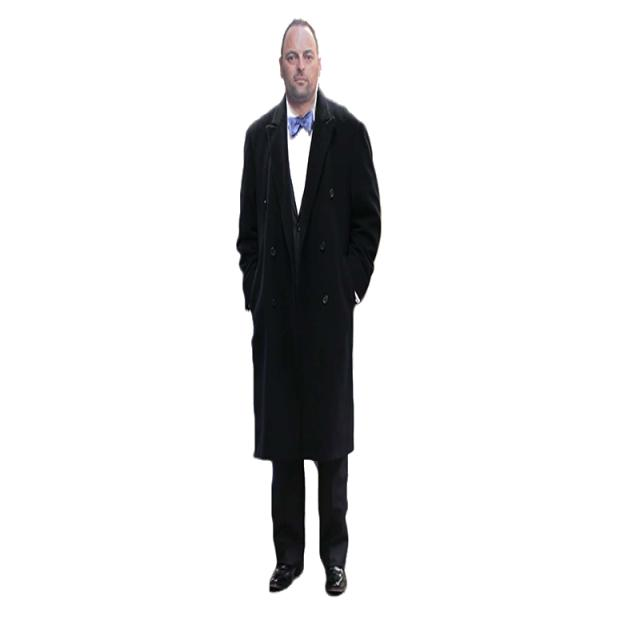jovem: (233, 10, 386, 607)
